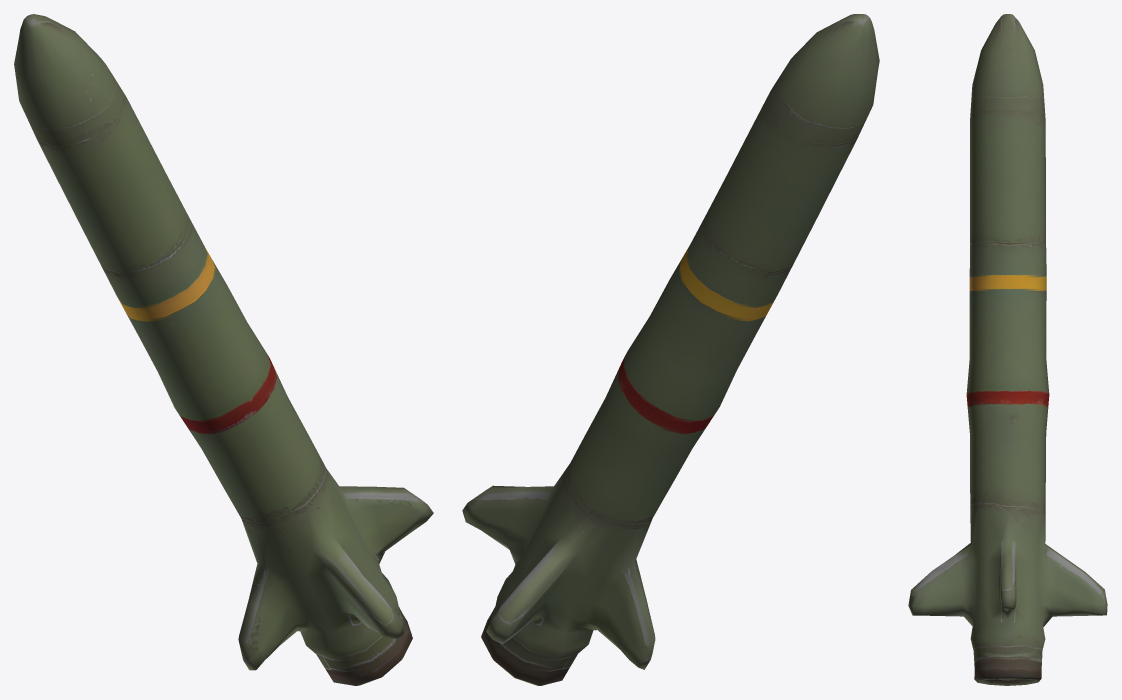
File: rocket.fbx
3 renders of one model, left to right at view 1: azimuth 30°, elevation 25°; view 2: azimuth 150°, elevation 25°; view 3: azimuth 270°, elevation 25°, orthographic. The views are drawn at different scales.
Parts seen in each view (by area): view 1: rocket; view 2: rocket; view 3: rocket.
Part boxes in pixels (<box>): rocket: <box>14,14,433,685</box>; rocket: <box>462,14,879,685</box>; rocket: <box>908,14,1107,685</box>.
Bounding box in the file's own units: 57.81 × 99.81 × 32.22.
1 material, 1 textured.
